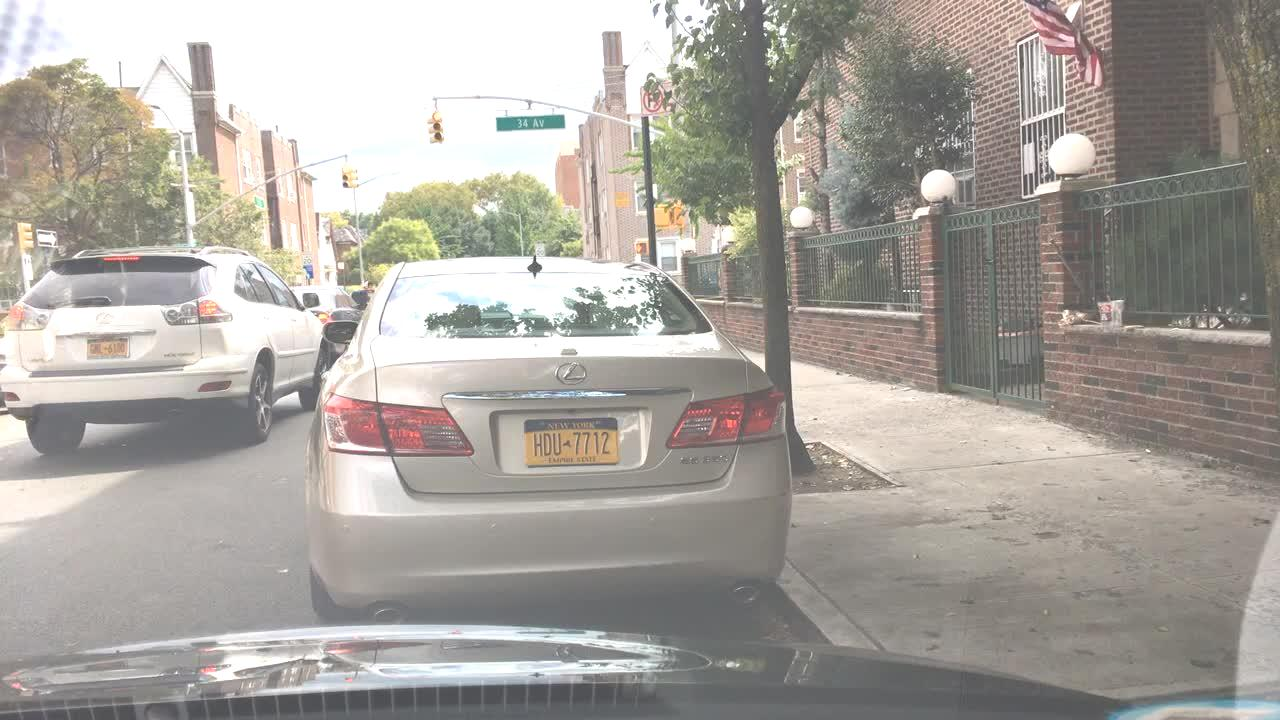lexus: (553, 356, 602, 396), (93, 309, 116, 327)
